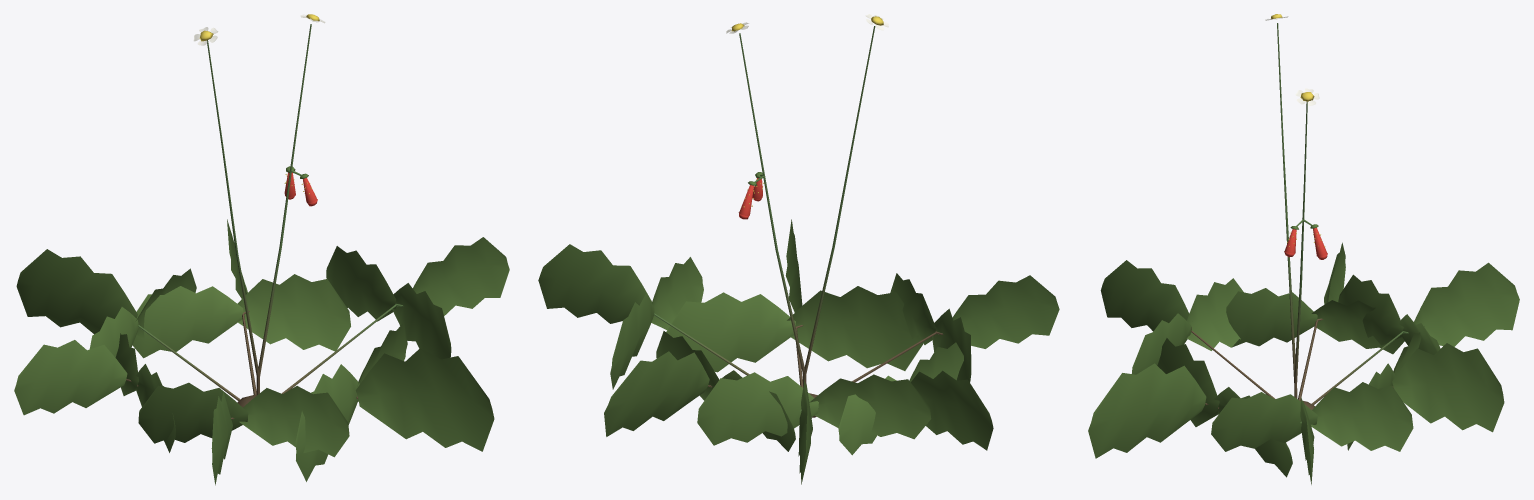
Rendered from WildStrawberry.glb.
The picture shows the model from 3 angles, left to right: view 1: azimuth 30°, elevation 25°; view 2: azimuth 150°, elevation 25°; view 3: azimuth 270°, elevation 25°; orthographic projection. The views are drawn at different scales.
Parts seen in each view (by area): view 1: Plant; view 2: Plant; view 3: Plant.
Part boxes in pixels (<box>): Plant: <box>14,14,509,485</box>; Plant: <box>538,14,1059,484</box>; Plant: <box>1088,14,1519,484</box>.
Bounding box in the file's own units: 0.2985 × 0.2467 × 0.2525.
